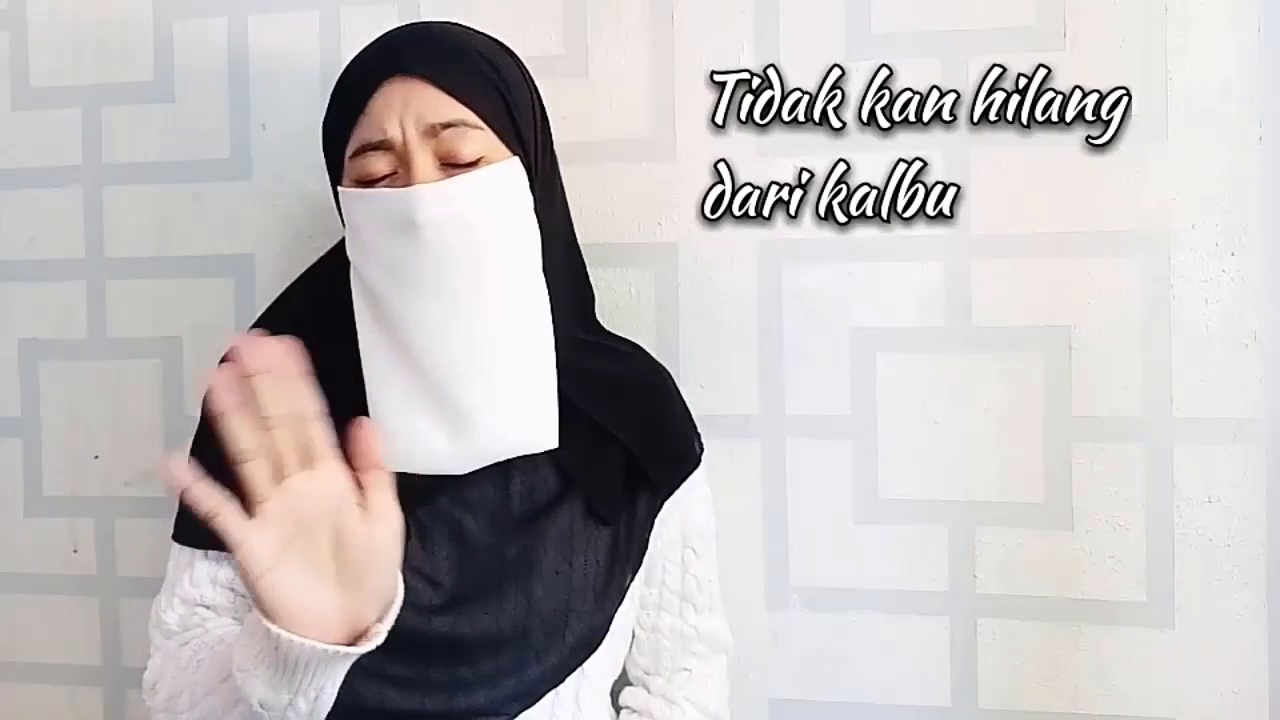TIDAK: (150, 18, 536, 670)
